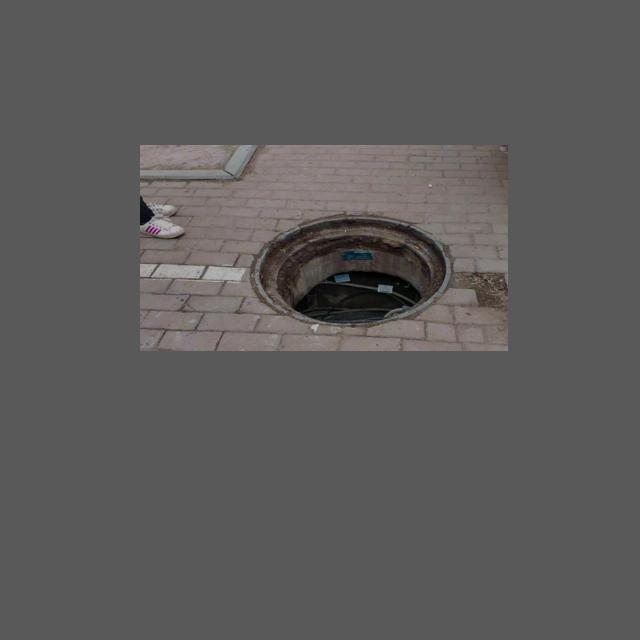lose: (248, 210, 453, 330)
